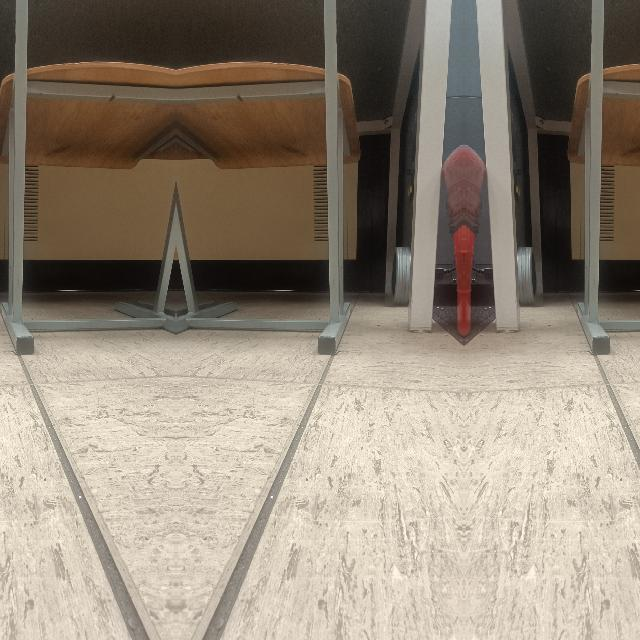obstacle: (175, 108, 352, 360), (0, 108, 175, 359), (575, 108, 640, 359), (414, 194, 441, 332), (488, 194, 514, 332)
